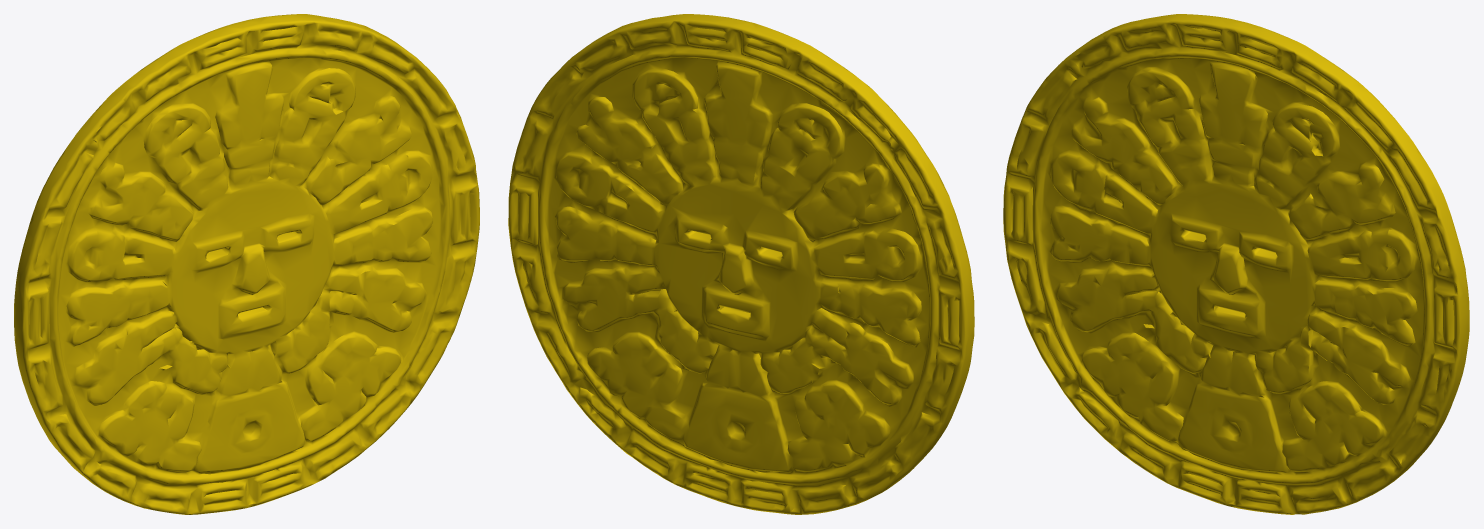
The model's file is DiscoSolar.glb.
The picture shows the model from 3 angles, left to right: view 1: azimuth 30°, elevation 25°; view 2: azimuth 150°, elevation 25°; view 3: azimuth 330°, elevation 25°; orthographic projection.
Visible parts, largest first — view 1: rueda; view 2: rueda; view 3: rueda.
Part boxes in pixels (bbox=[...]): rueda: bbox=[14, 14, 479, 514]; rueda: bbox=[508, 14, 974, 514]; rueda: bbox=[1003, 14, 1469, 514].
Size of the model in its own units: 0.1951 by 0.1955 by 0.0138.
